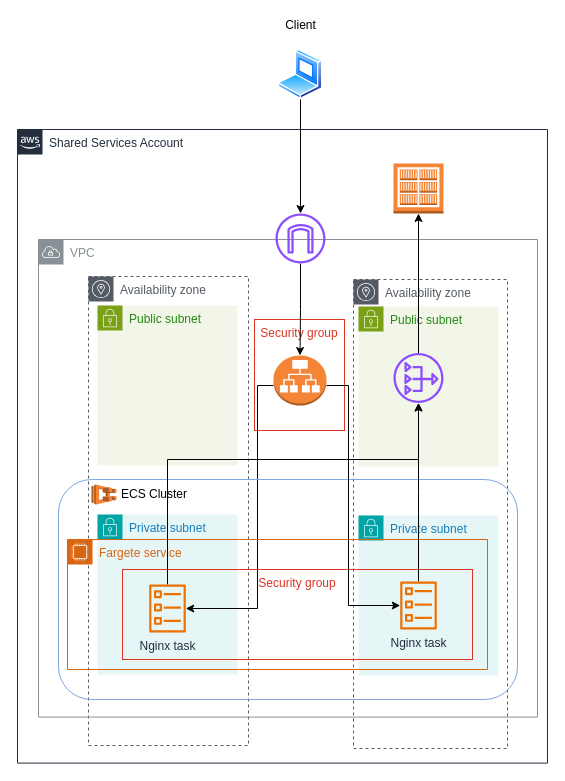
This 565x781 diagram has some shape labels left out. The centre of each missing label's shape, as x and y in pixels:
ECR: point (418, 188)
IGW: point (300, 238)
NAT: point (418, 377)
